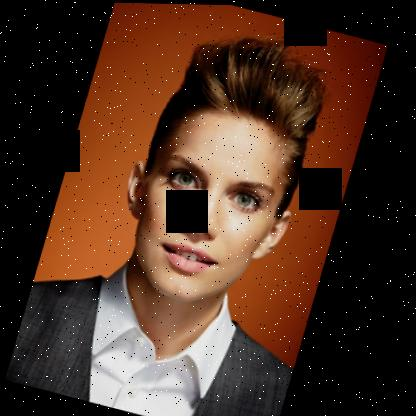Male: (101, 84, 320, 319)
